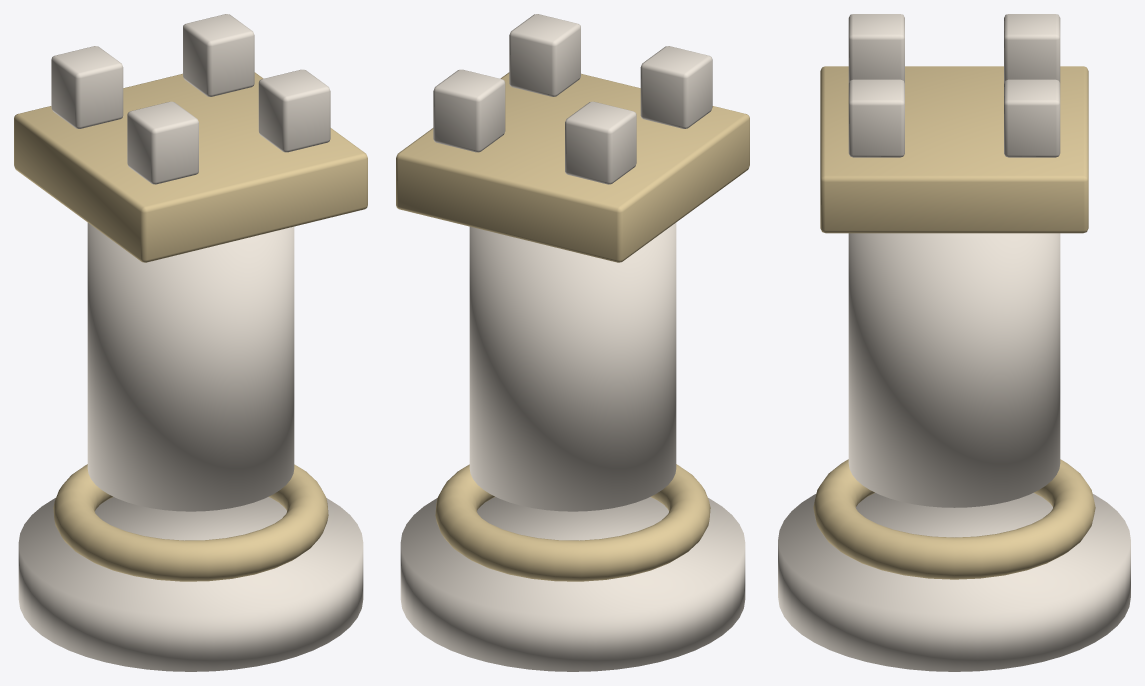
File: rook.glb
3 renders of one model, left to right at view 1: azimuth 30°, elevation 25°; view 2: azimuth 150°, elevation 25°; view 3: azimuth 270°, elevation 25°, orthographic. The views are drawn at different scales.
Visible parts, largest first — view 1: tower, base, cap, collar, crenel_0.11_-0.11, crenel_-0.11_0.11, crenel_-0.11_-0.11, crenel_0.11_0.11; view 2: tower, base, cap, collar, crenel_0.11_0.11, crenel_-0.11_-0.11, crenel_-0.11_0.11, crenel_0.11_-0.11; view 3: tower, base, cap, collar, crenel_0.11_-0.11, crenel_0.11_0.11, crenel_-0.11_-0.11, crenel_-0.11_0.11.
Boxes of the visible parts, x1,y1,x2,y2 form: tower: (87, 223, 294, 511); base: (18, 497, 363, 671); cap: (14, 72, 367, 262); collar: (53, 464, 328, 581); crenel_0.11_-0.11: (258, 69, 330, 152); crenel_-0.11_0.11: (51, 46, 123, 128); crenel_-0.11_-0.11: (127, 101, 198, 184); crenel_0.11_0.11: (183, 14, 254, 96); tower: (469, 223, 676, 511); base: (400, 497, 745, 671); cap: (396, 72, 749, 262); collar: (435, 464, 710, 581); crenel_0.11_0.11: (433, 69, 505, 152); crenel_-0.11_-0.11: (640, 46, 712, 128); crenel_-0.11_0.11: (565, 101, 636, 184); crenel_0.11_-0.11: (509, 14, 580, 96); tower: (848, 233, 1060, 507); base: (778, 493, 1130, 671); cap: (820, 66, 1088, 233); collar: (813, 459, 1095, 579); crenel_0.11_-0.11: (848, 79, 904, 157); crenel_0.11_0.11: (1004, 79, 1060, 157); crenel_-0.11_-0.11: (848, 14, 904, 82); crenel_-0.11_0.11: (1004, 14, 1060, 82).
Size of the model in its own units: 0.5 by 0.845 by 0.5.
